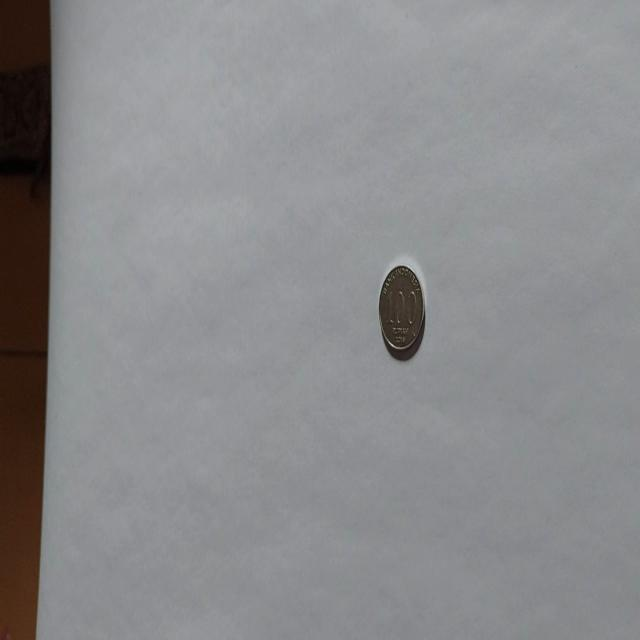seratus rupiah: (377, 263, 425, 360)
